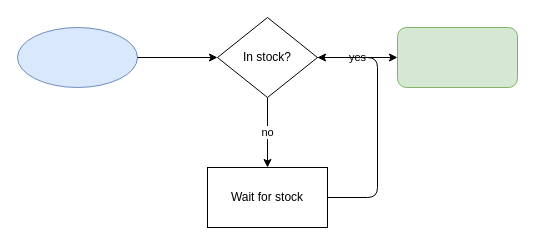
This 535x245 diagram has some shape labels left out. The box of each missing label's shape, as (x1, y1, x2, y2) in pixels:
Order placed: (16, 26, 138, 88)
Ship the order: (396, 26, 518, 88)
